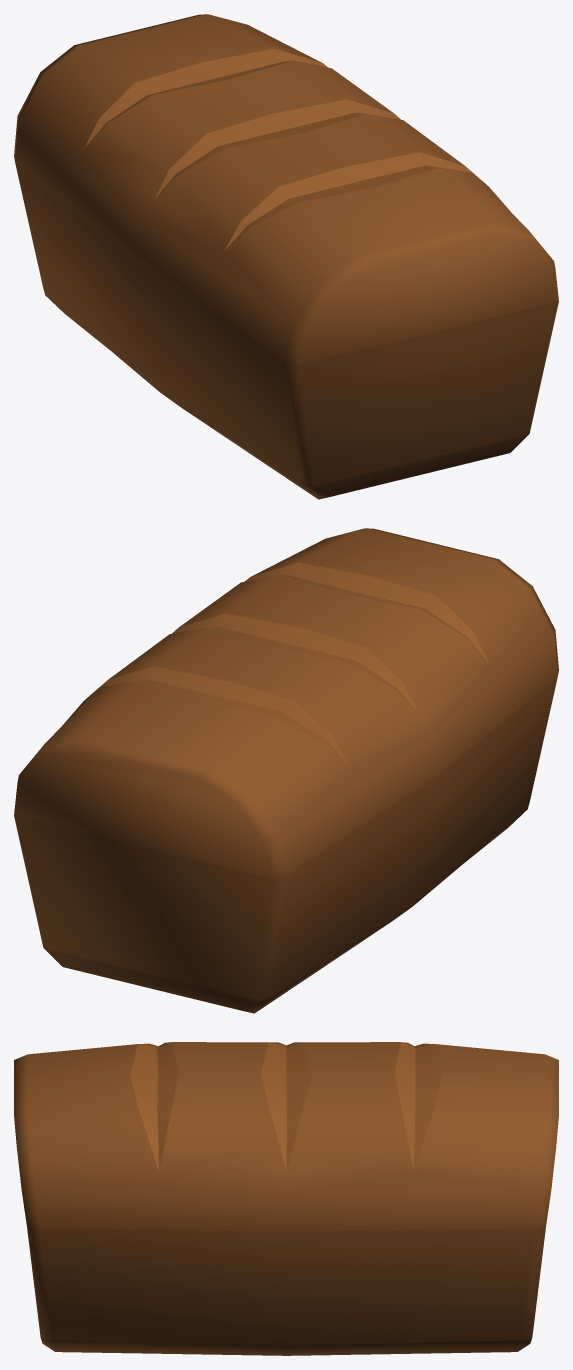
The model's file is Bread_1_C_001.glb.
3 views of the same model, one above another, from view 1: azimuth 30°, elevation 25°; view 2: azimuth 150°, elevation 25°; view 3: azimuth 270°, elevation 25° (orthographic). The views are drawn at different scales.
Parts seen in each view (by area): view 1: Bread_1_C.001; view 2: Bread_1_C.001; view 3: Bread_1_C.001.
Boxes of the visible parts, box(x1,y1,x2,y2) form: Bread_1_C.001: box(14, 14, 558, 499); Bread_1_C.001: box(14, 528, 558, 1013); Bread_1_C.001: box(14, 1042, 558, 1355).
Size of the model in its own units: 0.2297 by 0.1874 by 0.3914.
Materials: 1 (1 with a texture image).
